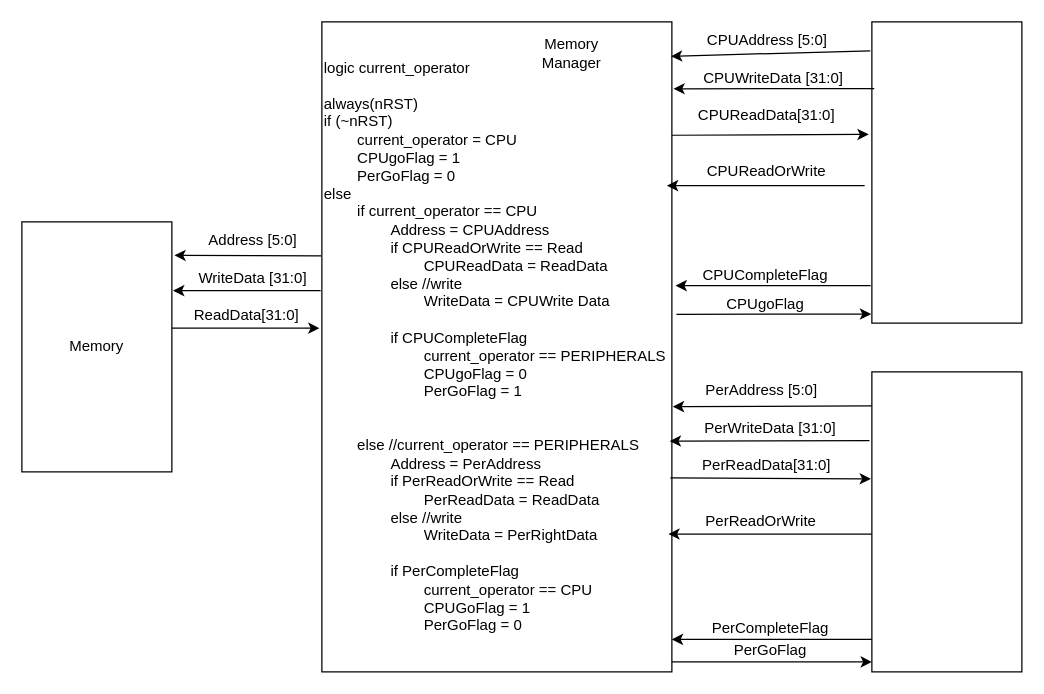
Image size: 1044x694. Some labels were removed from this diagram. The box of each missing label's shape, as (x1, y1, x2, y2) in pixels:
CPU: (871, 21, 1022, 323)
Peripherals: (871, 371, 1022, 672)
